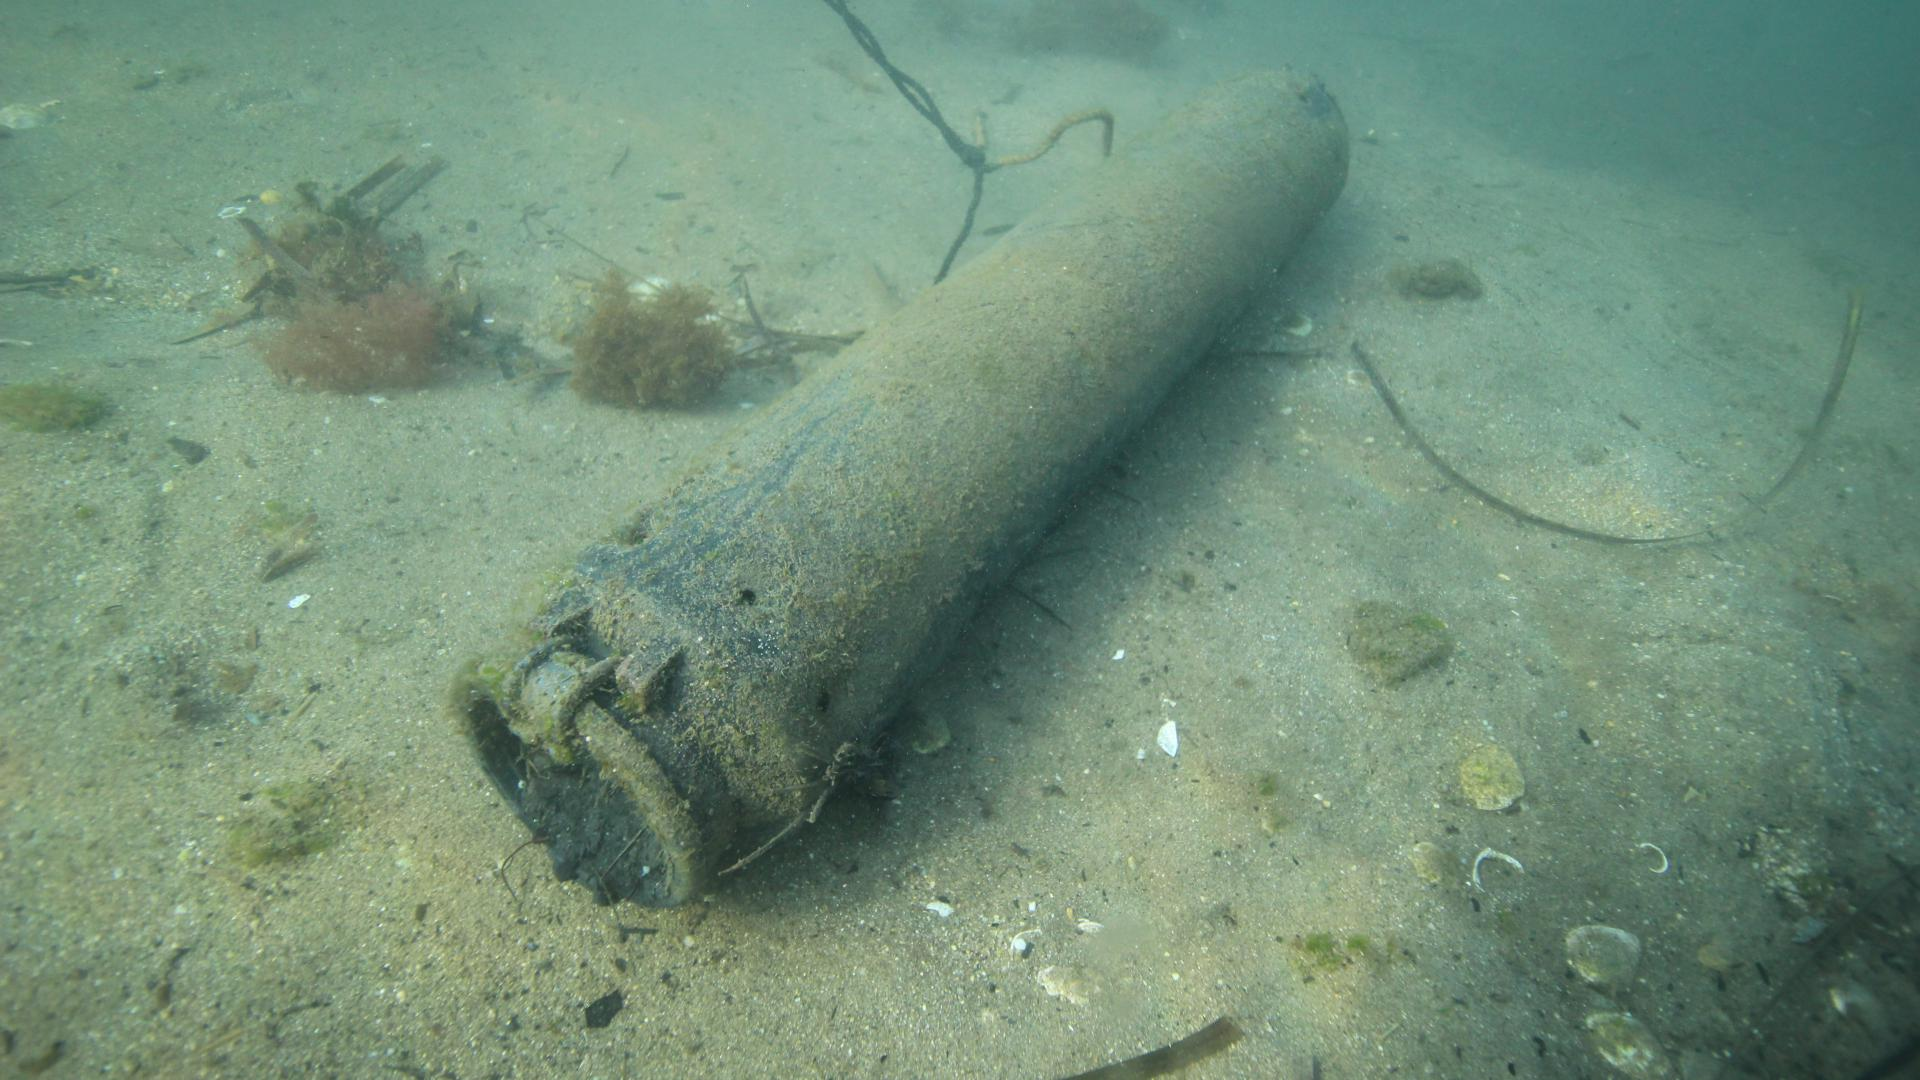eel fish trap: (450, 65, 1350, 914)
rope: (709, 0, 1116, 280)
